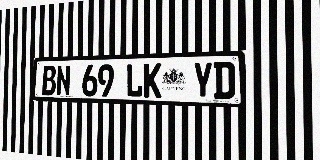6: (82, 64, 98, 96)
9: (98, 64, 114, 97)
B: (42, 65, 56, 96)
D: (214, 61, 235, 99)
K: (143, 63, 161, 98)
L: (126, 63, 143, 97)
N: (56, 65, 71, 96)
Y: (193, 62, 213, 99)
